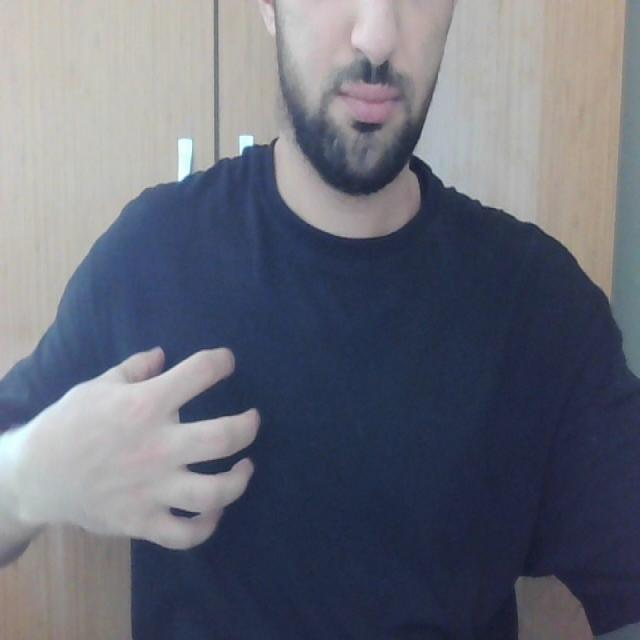Anne: (62, 314, 271, 569)
